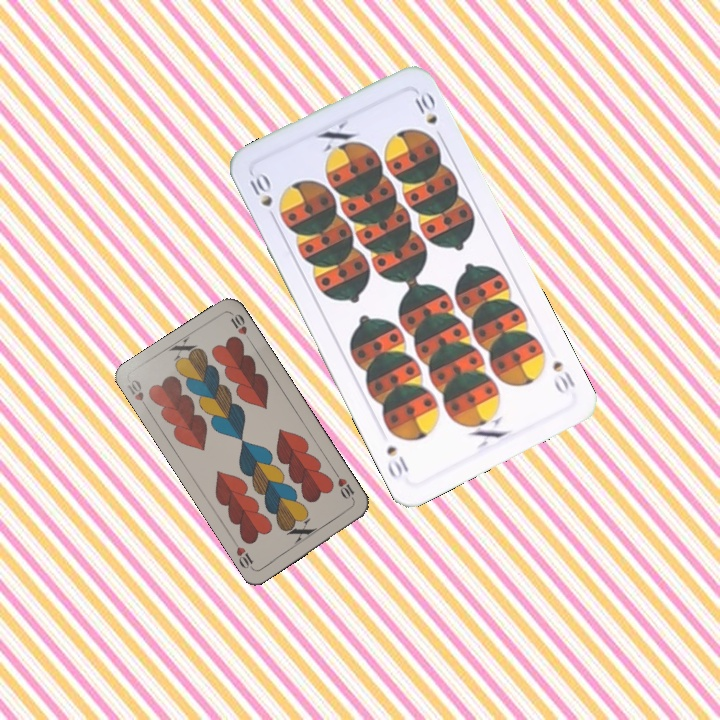H10: (123, 375, 152, 413), (331, 468, 357, 504)
S10: (244, 168, 279, 225), (548, 356, 578, 397)
